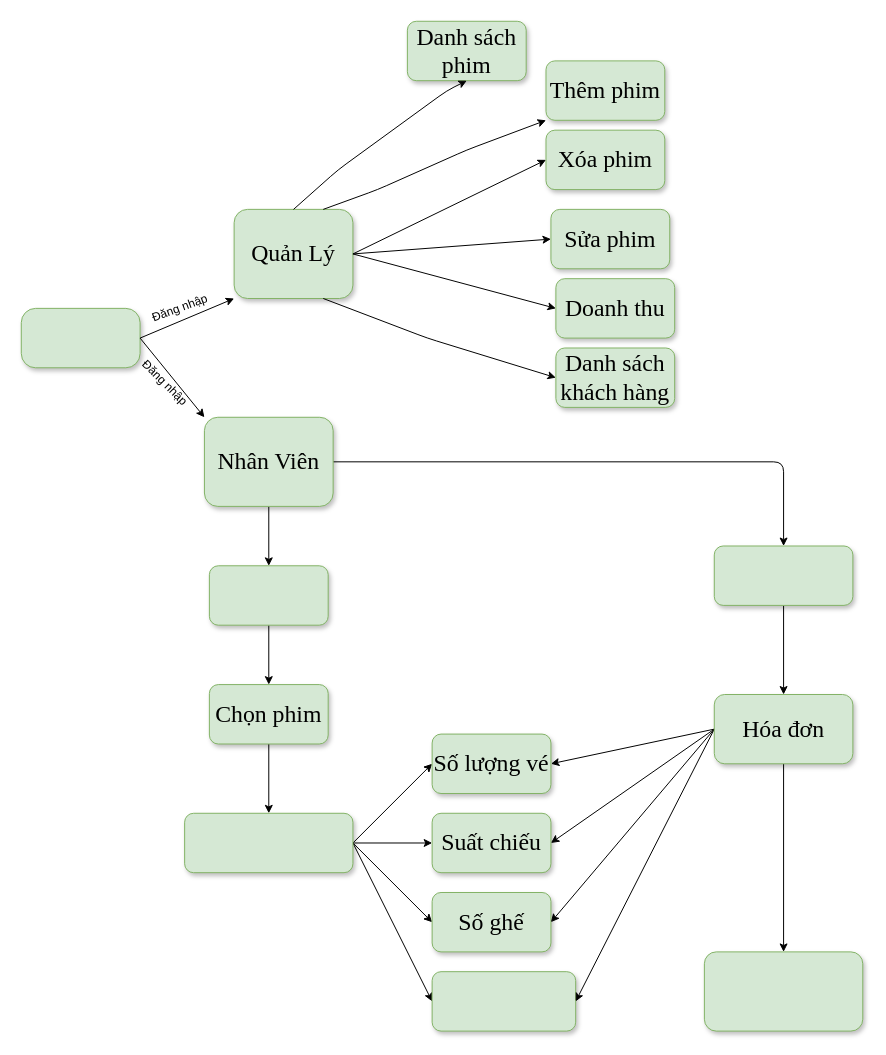
This 886x1055 diagram has some shape labels left out. Here are the shapes that lost their labels. From the top down, the centre of each, then its label:
the point at 81,339: MENU
the point at 269,596: Đặt vé
the point at 784,576: Thanh toán
the point at 269,844: Nhập thông tin
the point at 504,1002: Thông tin khách hàng
the point at 784,992: Tổng chi phí
